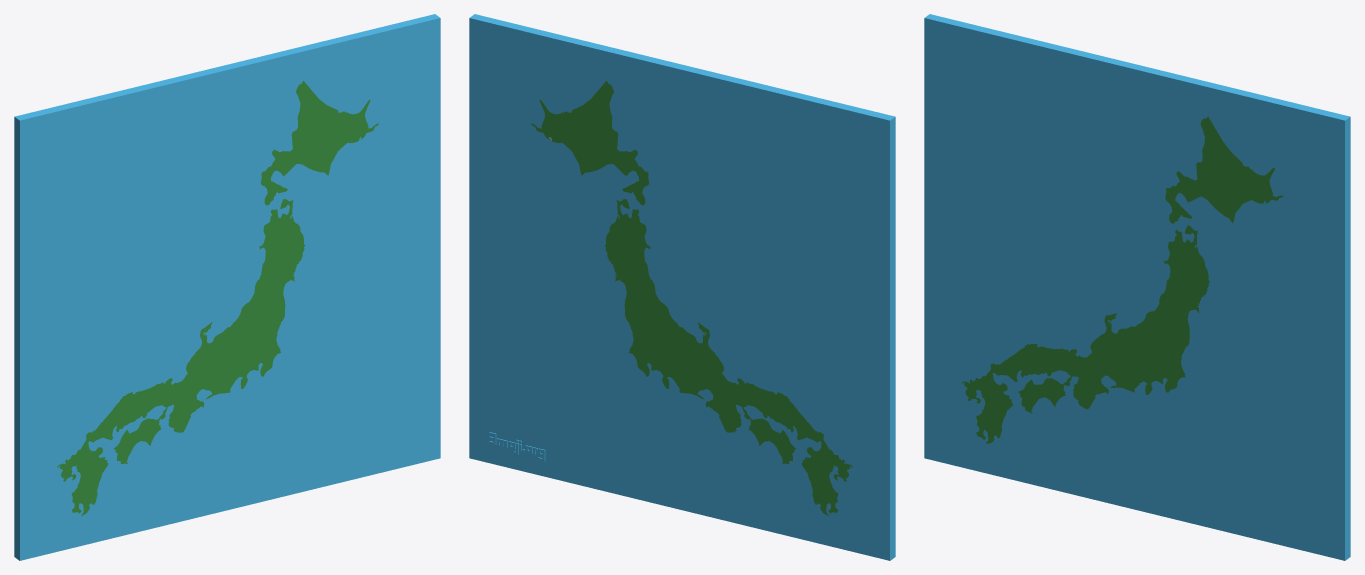
The model's file is map_of_japan.glb.
The picture shows the model from 3 angles, left to right: view 1: azimuth 30°, elevation 25°; view 2: azimuth 150°, elevation 25°; view 3: azimuth 330°, elevation 25°; orthographic projection.
Parts seen in each view (by area): view 1: Plane.224; view 2: Plane.224; view 3: Plane.224.
Boxes of the visible parts, x1,y1,x2,y2 form: Plane.224: (14,14,440,560); Plane.224: (469,14,895,560); Plane.224: (924,14,1350,560).
Size of the model in its own units: 2 by 2 by 0.0498.
Materials: 1 (1 with a texture image).
